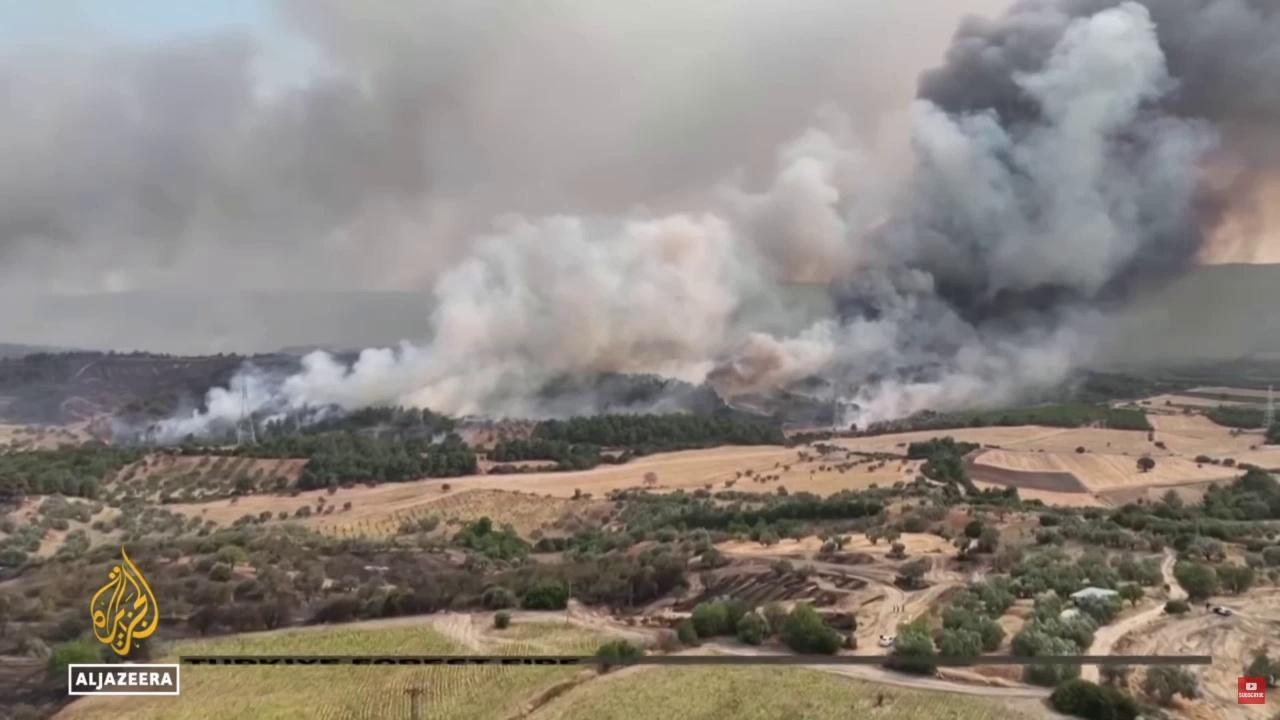fire: (103, 439, 110, 445)
smoke: (0, 0, 1280, 450)
